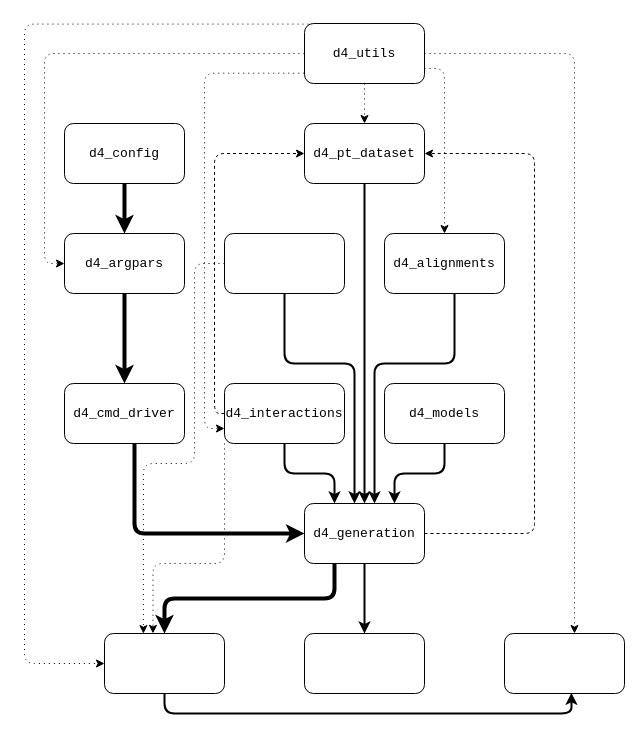
The diagram is 642 pixels wide and 740 high, and some of its shapes have lost their labels. Here are the shapes that lost their labels. From the top down, the box of each, then its label:
(224, 232, 344, 294): d4_split
(104, 632, 224, 694): d4_predict
(304, 632, 424, 694): d4_stats
(504, 632, 624, 694): d4_plot
